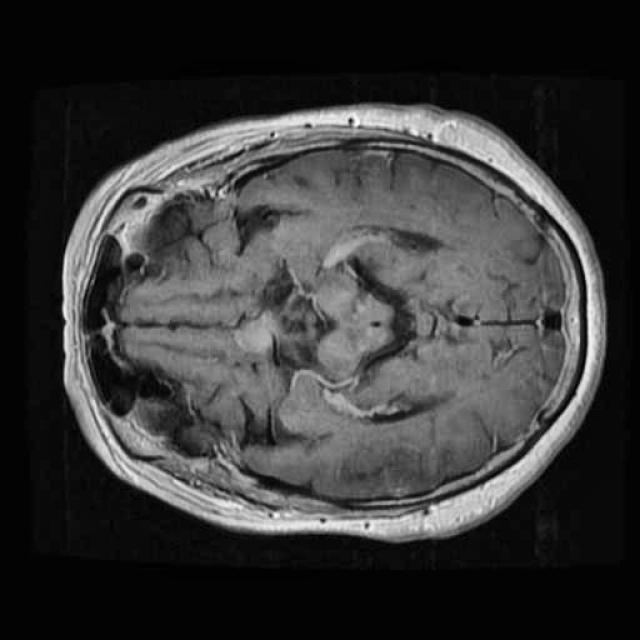Tumor: (231, 305, 284, 362)
